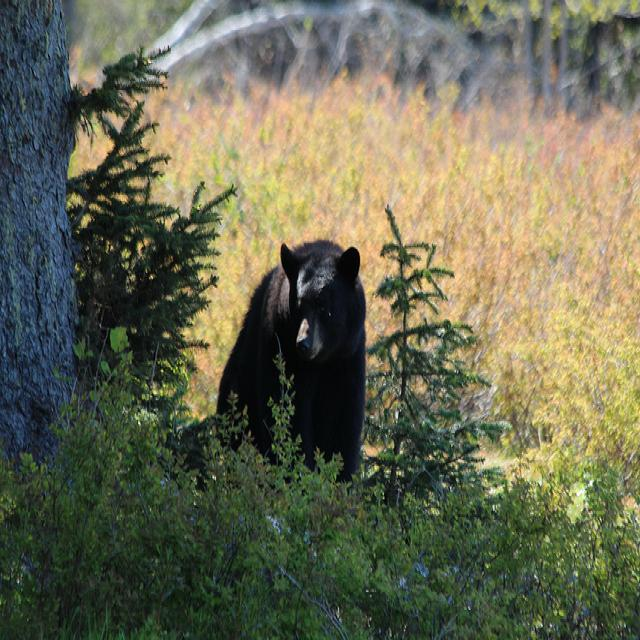Bear: (217, 234, 365, 495)
